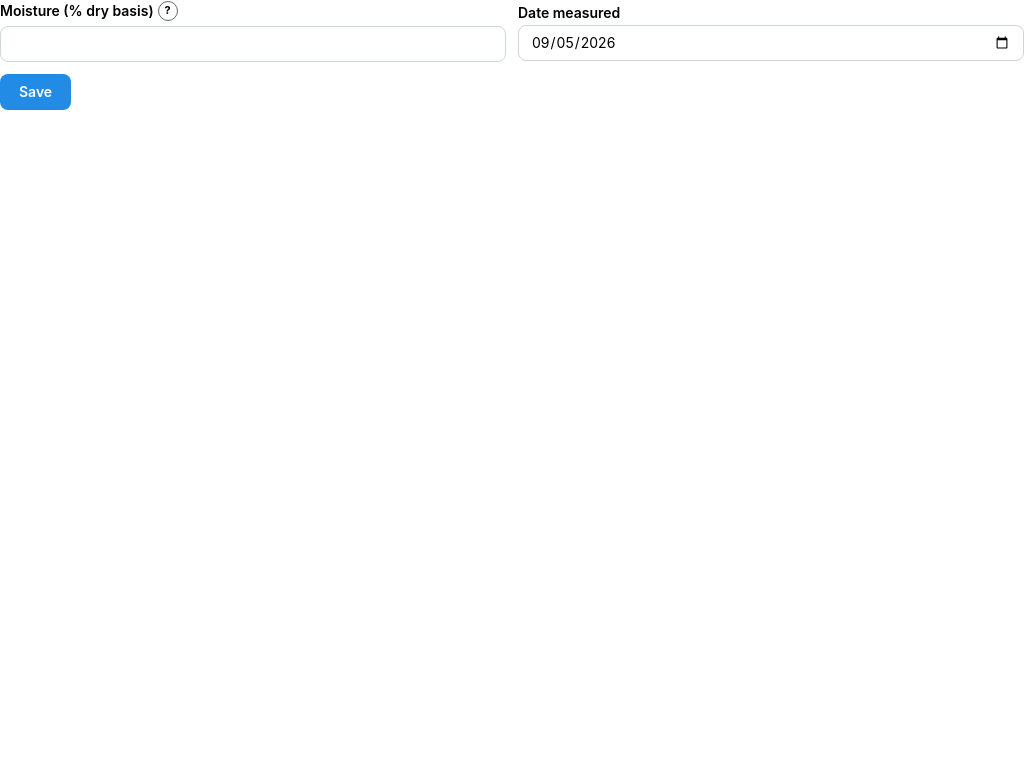
LogReadingForm in English › explains the basis in English too
Click the button named "dry basis".
click(168, 11)  # box x1=158 y1=1 x2=178 y2=21
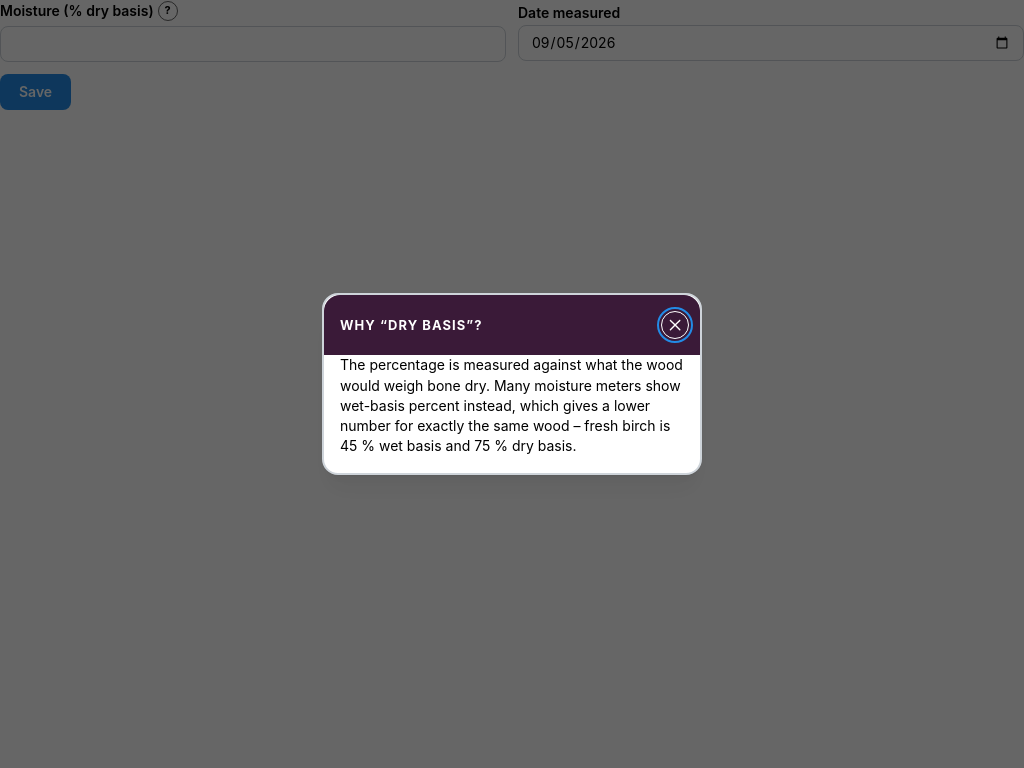
Result: the text "wet-basis" is shown at x1=340 y1=356 x2=683 y2=454
